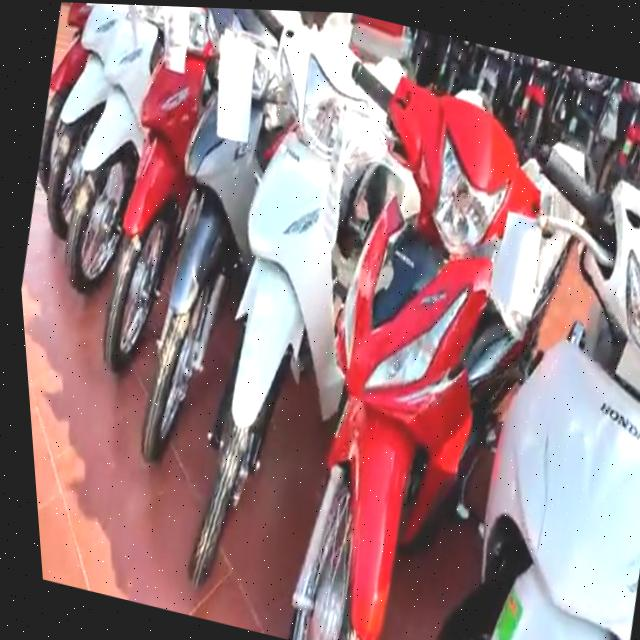motorcycle: (237, 53, 575, 640), (139, 5, 415, 620), (410, 124, 640, 640), (100, 4, 320, 488), (66, 2, 236, 379)
